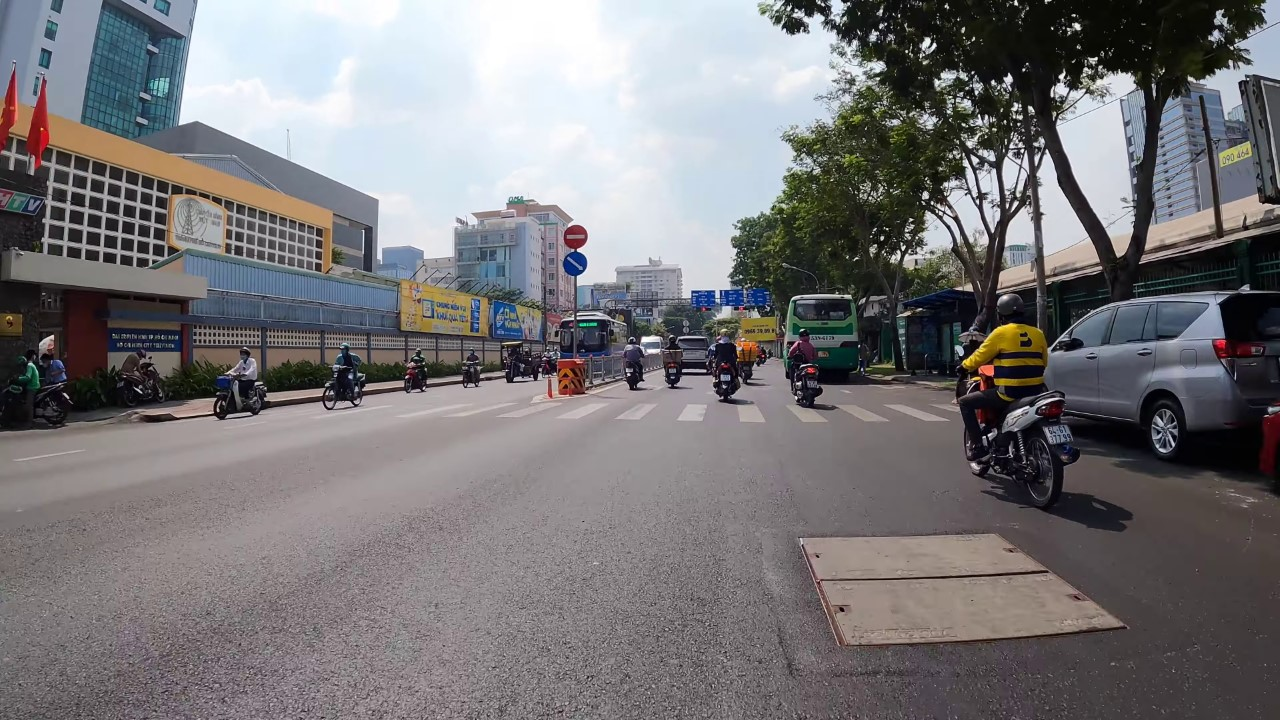cam_nguoc_chieu: (561, 225, 588, 251)
huong_phai_di_vong: (561, 249, 589, 278)
